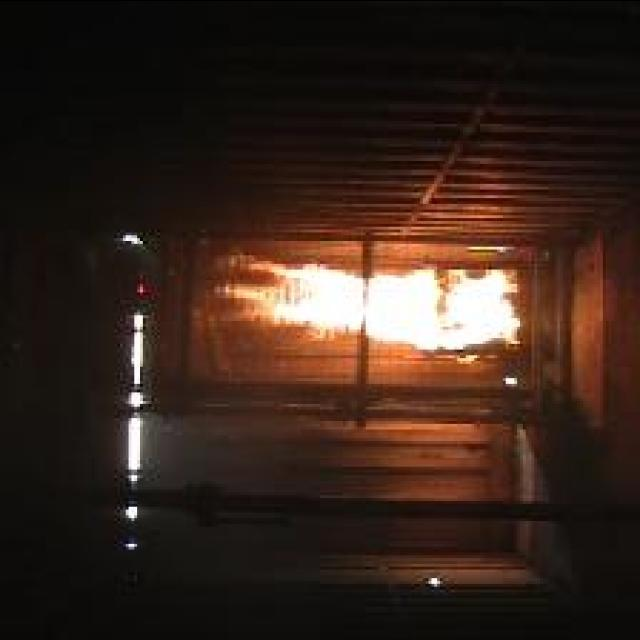Fire: (216, 258, 522, 350)
